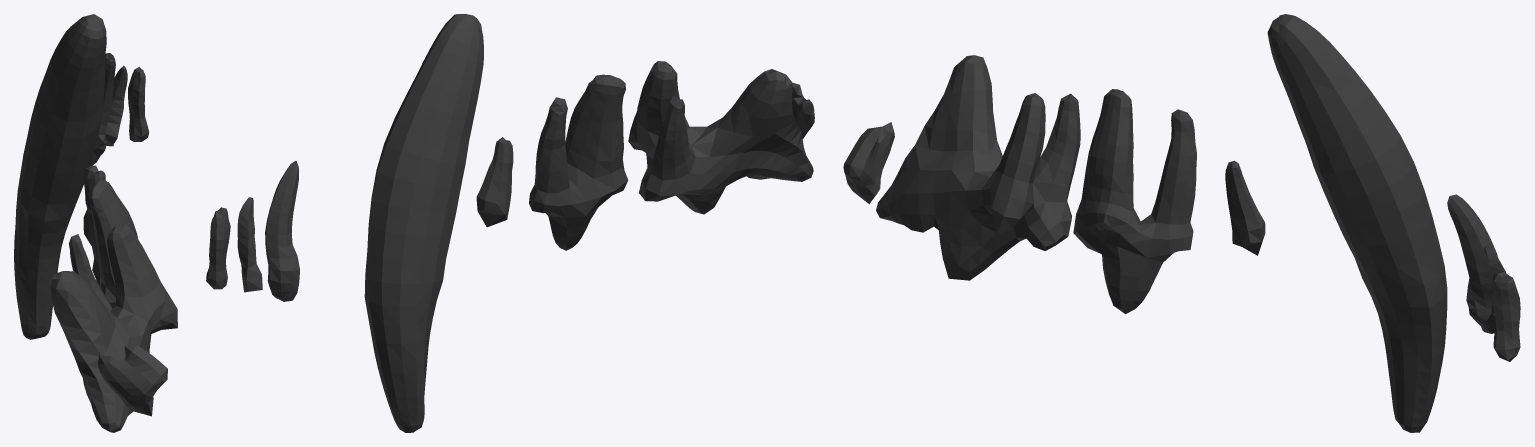
File: Teeth_top.glb
The picture shows the model from 3 angles, left to right: view 1: azimuth 30°, elevation 25°; view 2: azimuth 150°, elevation 25°; view 3: azimuth 270°, elevation 25°; orthographic projection. The views are drawn at different scales.
Parts seen in each view (by area): view 1: Teeth_top; view 2: Teeth_top; view 3: Teeth_top.
Part boxes in pixels (<box>): Teeth_top: <box>14,14,177,432</box>; Teeth_top: <box>206,14,814,432</box>; Teeth_top: <box>843,14,1520,432</box>.
Bounding box in the file's own units: 0.2046 × 0.215 × 0.3173.
Materials: 1 (1 with a texture image).
